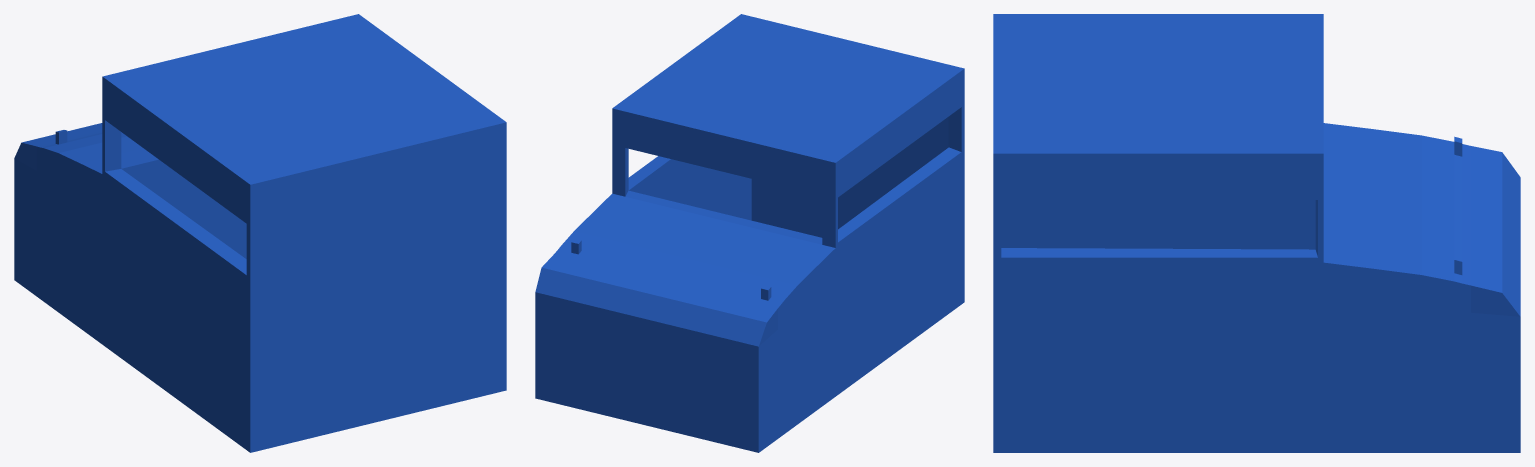
The model's file is test_car2.fbx.
3 renders of one model, left to right at view 1: azimuth 30°, elevation 25°; view 2: azimuth 150°, elevation 25°; view 3: azimuth 270°, elevation 25°, orthographic. The views are drawn at different scales.
Visible parts, largest first — view 1: Cube; view 2: Cube; view 3: Cube.
Part boxes in pixels (bbox=[...]): Cube: bbox=[14, 14, 506, 452]; Cube: bbox=[535, 14, 964, 452]; Cube: bbox=[993, 14, 1520, 452].
Size of the model in its own units: 202 by 200 by 319.
